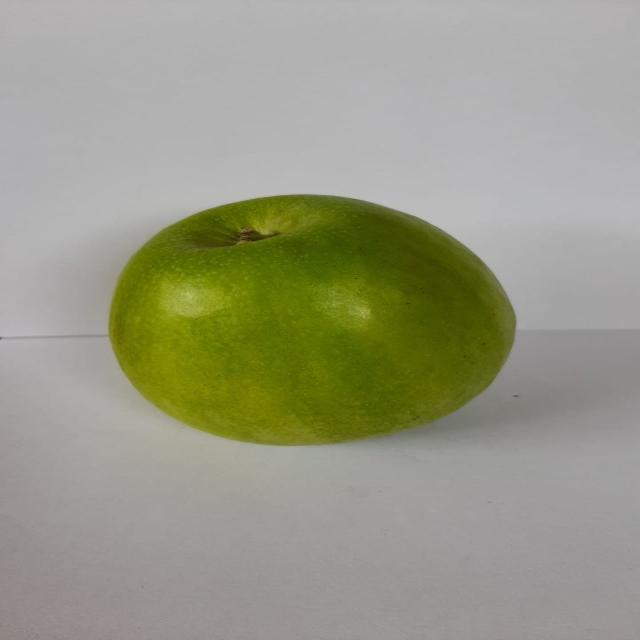50-_ripeness: (110, 181, 530, 453)
